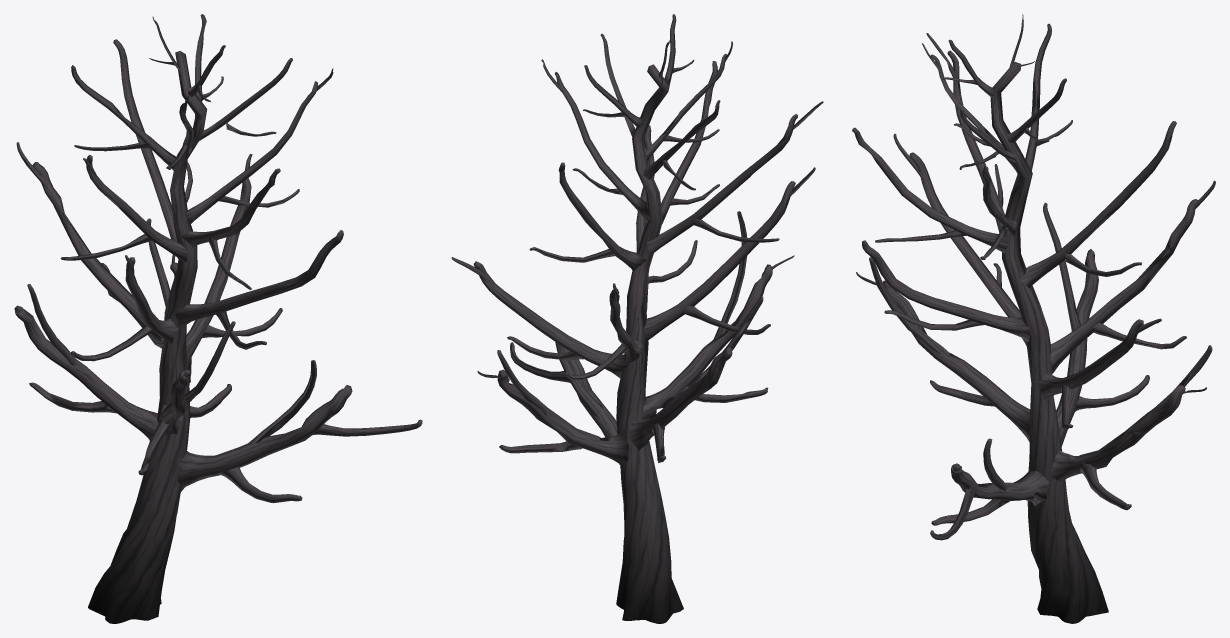
The model's file is tree-dead-2.glb.
3 views of the same model, side by side, from view 1: azimuth 30°, elevation 25°; view 2: azimuth 150°, elevation 25°; view 3: azimuth 270°, elevation 25° (orthographic). The views are drawn at different scales.
Parts seen in each view (by area): view 1: DeadTree_2; view 2: DeadTree_2; view 3: DeadTree_2.
Boxes of the visible parts, x1=… form: DeadTree_2: x1=14, y1=14, x2=422, y2=623; DeadTree_2: x1=451, y1=14, x2=823, y2=623; DeadTree_2: x1=852, y1=14, x2=1215, y2=623.
Size of the model in its own units: 6.73 by 11.49 by 6.38.
1 material, 1 textured.
